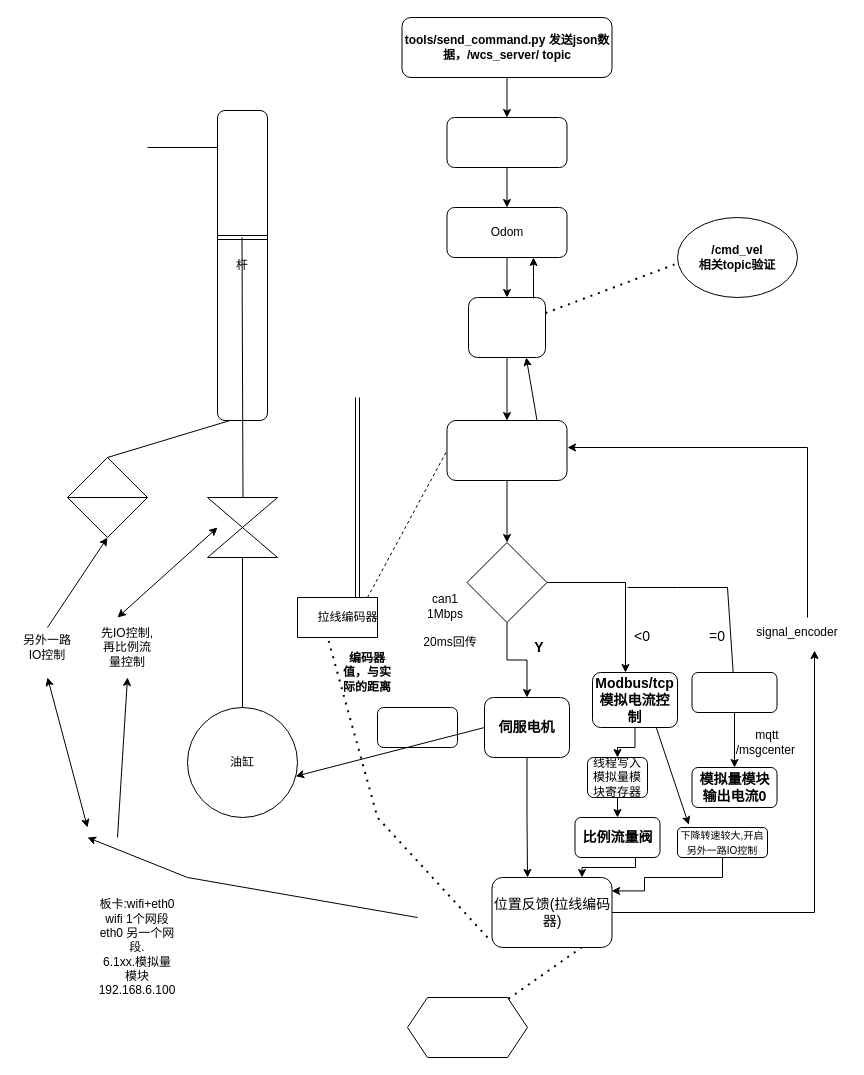
Image size: 864x1075. Some labels were removed from this diagram. Here are the shapes that lost their labels. From the top down, the box of each, then its label:
(446, 116, 567, 168): ME端
(468, 296, 546, 358): LiftDriver
(446, 420, 567, 480): 虚拟伺服
(466, 542, 547, 622): setspeed>0
(691, 672, 777, 712): 伺服电机停止
(376, 706, 458, 748): cansend 配置相关模式和数据输出
(406, 996, 528, 1058): 外部发送topic验证
